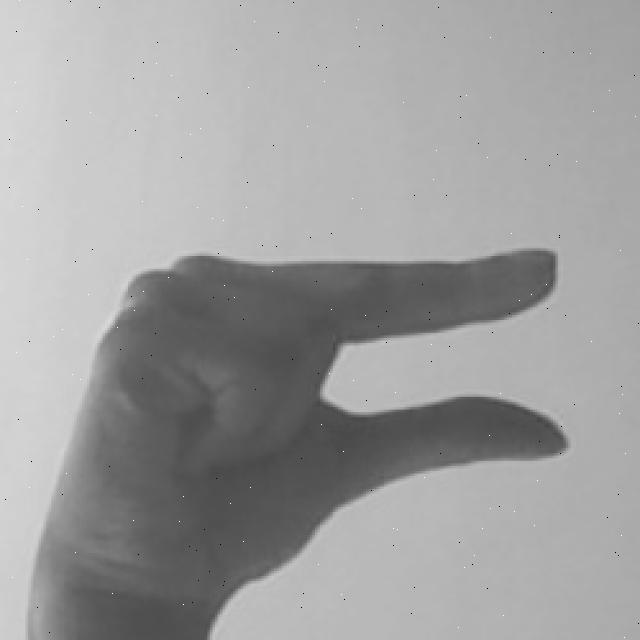G: (21, 251, 573, 640)
